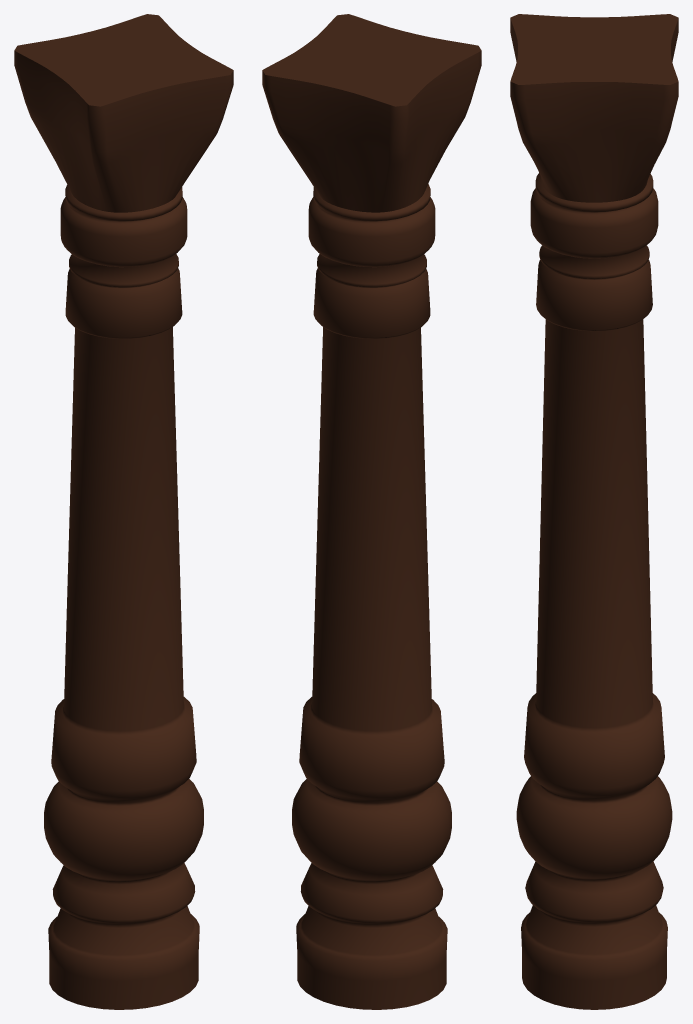
Rendered from pillar.fbx.
3 renders of one model, left to right at view 1: azimuth 30°, elevation 25°; view 2: azimuth 150°, elevation 25°; view 3: azimuth 270°, elevation 25°, orthographic.
Parts seen in each view (by area): view 1: pillar alone; view 2: pillar alone; view 3: pillar alone.
Part boxes in pixels (x1=…): pillar alone: x1=14, y1=14, x2=233, y2=1009; pillar alone: x1=262, y1=14, x2=481, y2=1009; pillar alone: x1=510, y1=14, x2=678, y2=1009.
Bounding box in the file's own units: 33.28 × 202 × 33.25.
